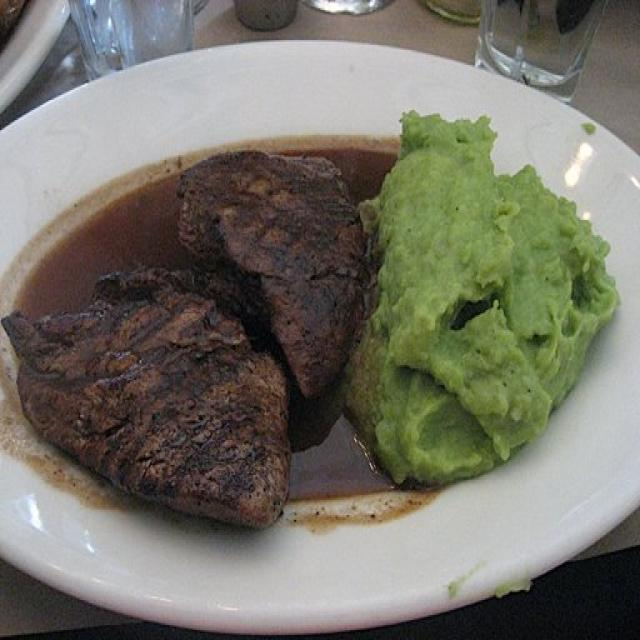Steak: (1, 143, 363, 515)
